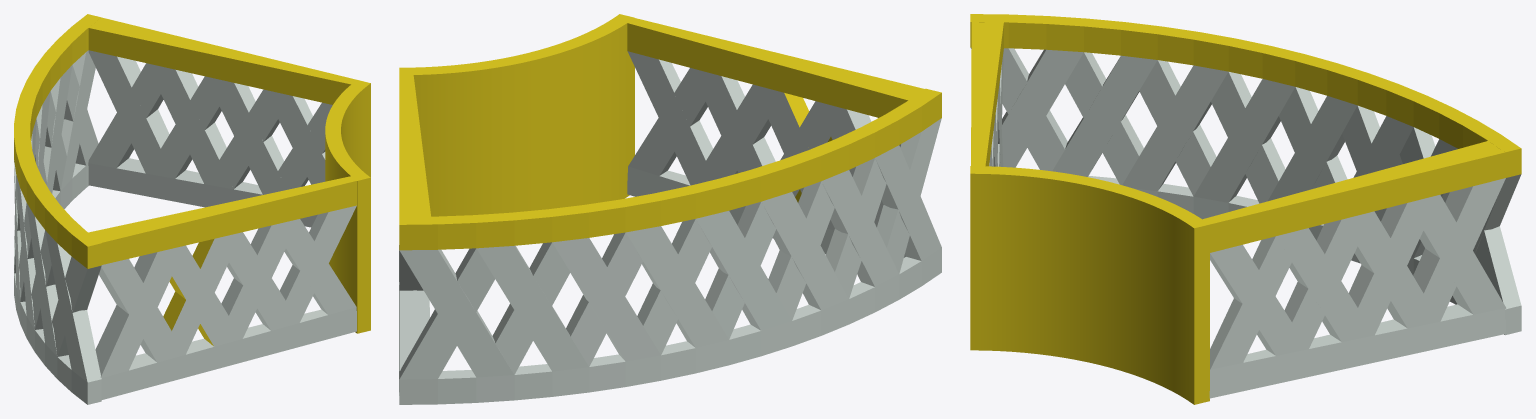
File: Basket.fbx
The picture shows the model from 3 angles, left to right: view 1: azimuth 30°, elevation 25°; view 2: azimuth 150°, elevation 25°; view 3: azimuth 270°, elevation 25°; orthographic projection. The views are drawn at different scales.
Visible parts, largest first — view 1: Цилиндр.001, Цилиндр.002, Цилиндр.003, Цилиндр.005; view 2: Цилиндр.003, Цилиндр.005, Цилиндр.001, Цилиндр.002; view 3: Цилиндр.003, Цилиндр.002, Цилиндр.005, Цилиндр.001.
Boxes of the visible parts, left/top/right/bottom form: Цилиндр.001: left=88, top=176, right=356, bottom=399; Цилиндр.002: left=88, top=17, right=356, bottom=227; Цилиндр.003: left=14, top=14, right=101, bottom=404; Цилиндр.005: left=325, top=80, right=370, bottom=333; Цилиндр.003: left=399, top=88, right=941, bottom=404; Цилиндр.005: left=399, top=14, right=634, bottom=216; Цилиндр.001: left=627, top=18, right=924, bottom=257; Цилиндр.002: left=399, top=75, right=430, bottom=395; Цилиндр.003: left=970, top=14, right=1521, bottom=335; Цилиндр.002: left=1203, top=141, right=1506, bottom=398; Цилиндр.005: left=970, top=166, right=1209, bottom=404; Цилиндр.001: left=971, top=22, right=1003, bottom=166.
Size of the model in its own units: 1.55 by 0.6178 by 1.69.
